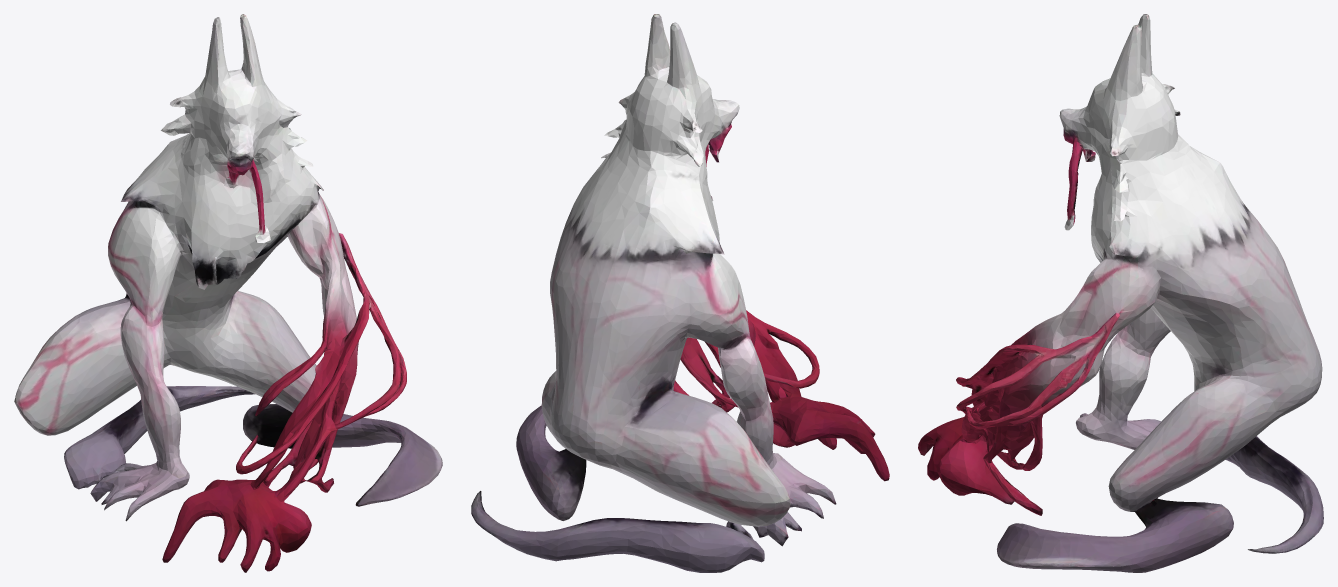
Rendered from paleclaw.glb.
3 renders of one model, left to right at view 1: azimuth 30°, elevation 25°; view 2: azimuth 150°, elevation 25°; view 3: azimuth 270°, elevation 25°, orthographic. The views are drawn at different scales.
Parts seen in each view (by area): view 1: MeshScale; view 2: MeshScale; view 3: MeshScale.
Part boxes in pixels (box(x1,y1,x2,y2)): MeshScale: box(14, 14, 442, 572); MeshScale: box(471, 14, 889, 572); MeshScale: box(918, 14, 1323, 572).
Bounding box in the file's own units: 1.65 × 2.25 × 1.68.
1 material, 1 textured.
